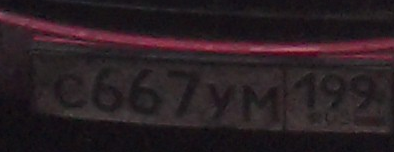character: (239, 78, 282, 129), (166, 62, 200, 121), (127, 60, 162, 117), (92, 62, 125, 113), (53, 71, 91, 111), (349, 68, 381, 112), (206, 80, 237, 125), (320, 66, 346, 113), (292, 67, 319, 108)
